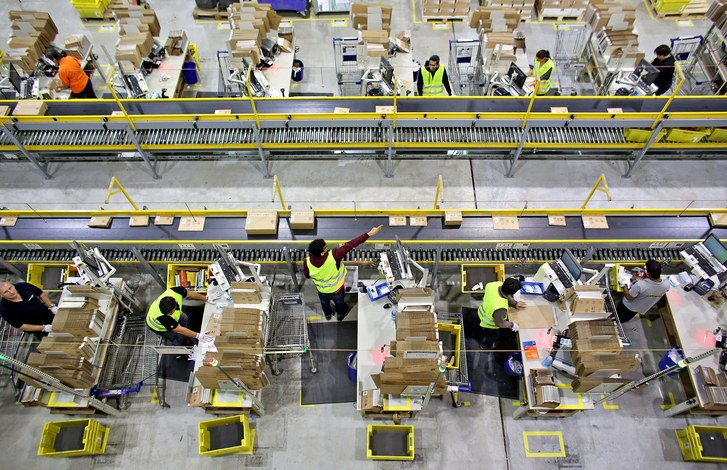noepi: (296, 220, 383, 323), (143, 282, 212, 345), (1, 270, 57, 343), (617, 255, 671, 326), (470, 270, 525, 337), (41, 44, 102, 102), (520, 47, 565, 102), (646, 40, 680, 100), (414, 52, 459, 95)
